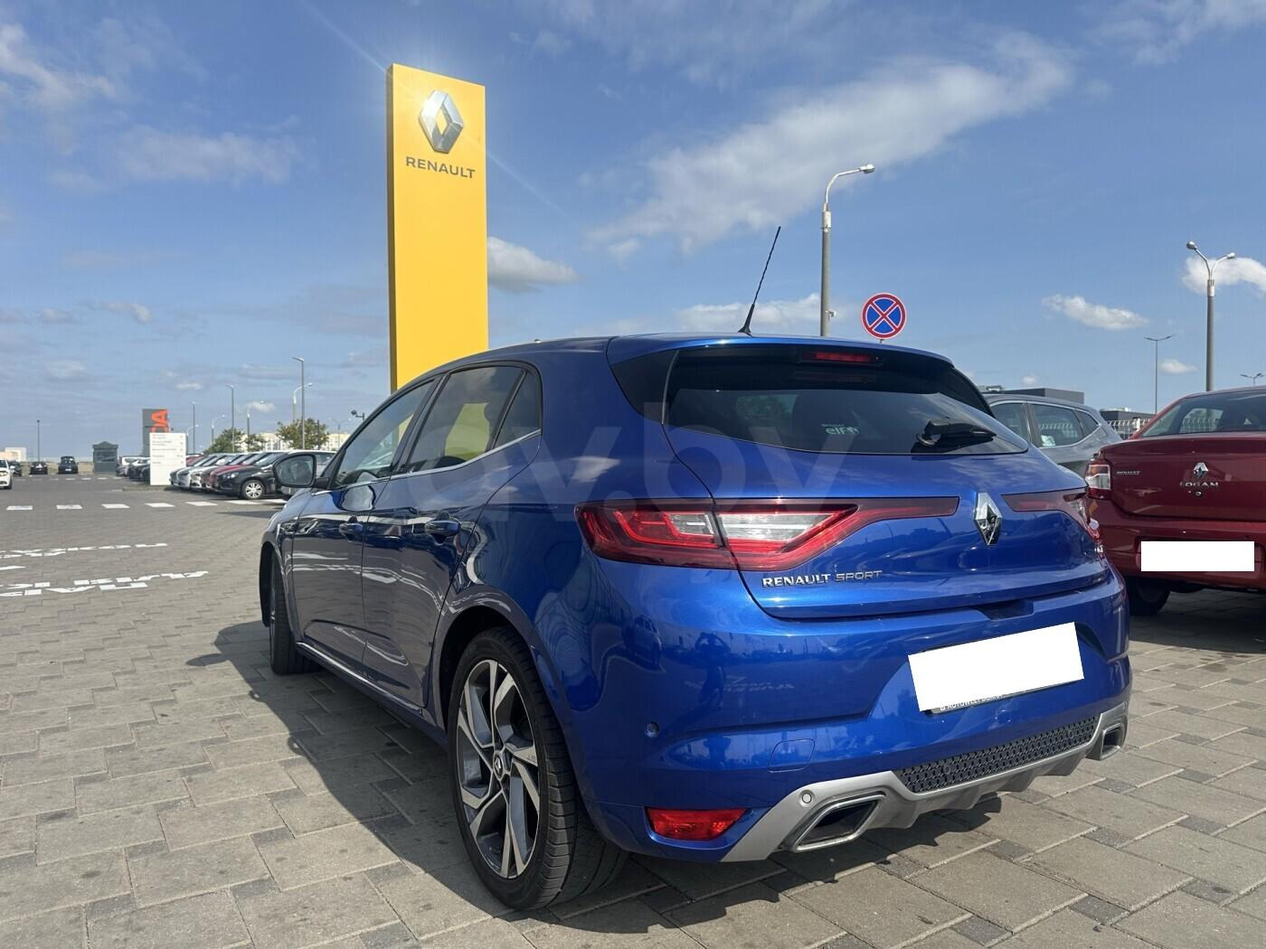Megane_2016-2020: (254, 338, 1141, 899)
